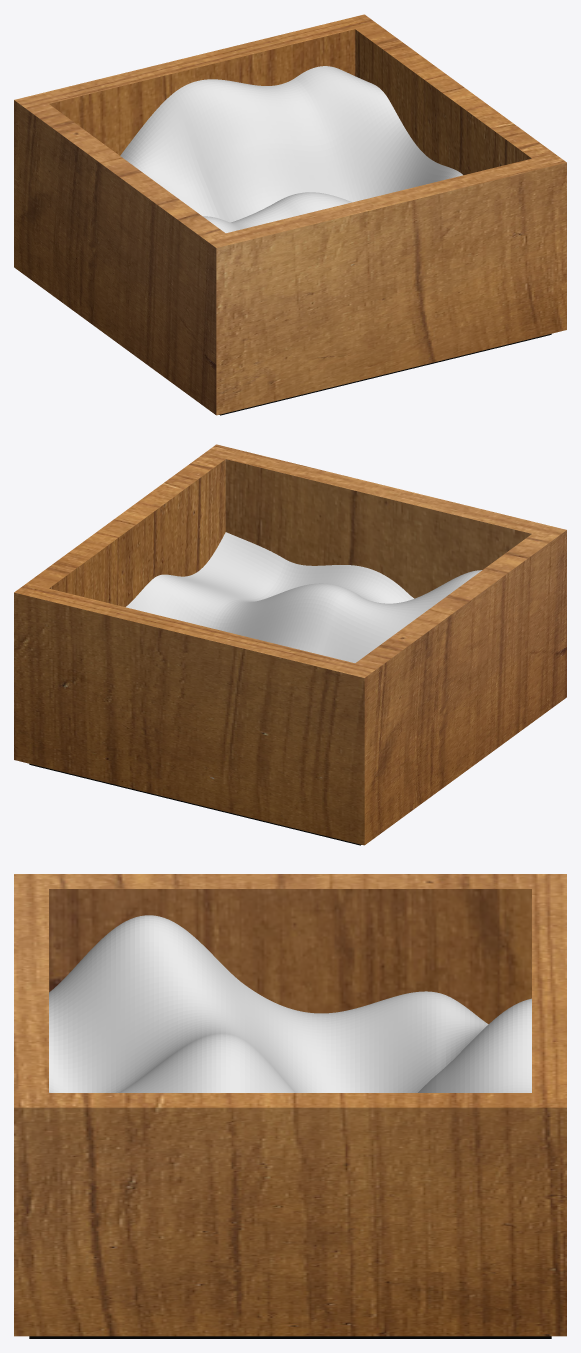
File: Cymatic.glb
The picture shows the model from 3 angles, top to bottom: view 1: azimuth 30°, elevation 25°; view 2: azimuth 150°, elevation 25°; view 3: azimuth 270°, elevation 25°; orthographic projection. The views are drawn at different scales.
Parts seen in each view (by area): view 1: Cube, Sand; view 2: Cube, Sand; view 3: Cube, Sand.
Boxes of the visible parts, x1=… form: Cube: x1=14, y1=14, x2=566, y2=415; Sand: x1=120, y1=66, x2=462, y2=232; Cube: x1=14, y1=444, x2=566, y2=845; Sand: x1=126, y1=532, x2=482, y2=662; Cube: x1=14, y1=874, x2=566, y2=1338; Sand: x1=49, y1=915, x2=531, y2=1092.
Size of the model in its own units: 6.74 by 3.19 by 6.74.
2 materials, 1 textured.
